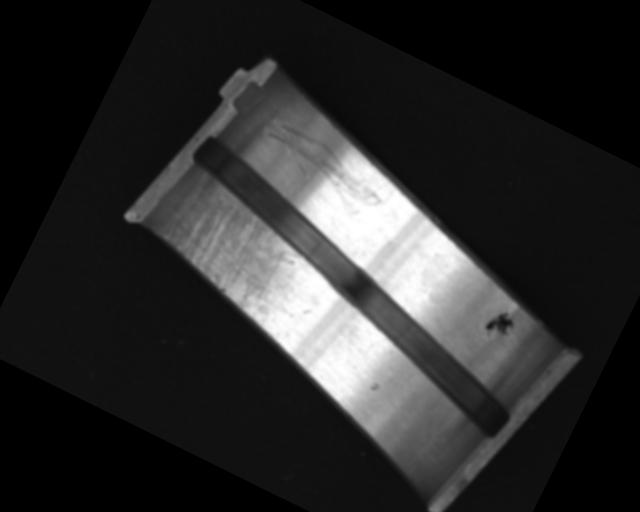blot: (481, 305, 519, 346)
bruise: (367, 378, 382, 393)
gap: (136, 132, 566, 445)
nick: (250, 114, 396, 222)
scratch: (136, 163, 335, 344)
